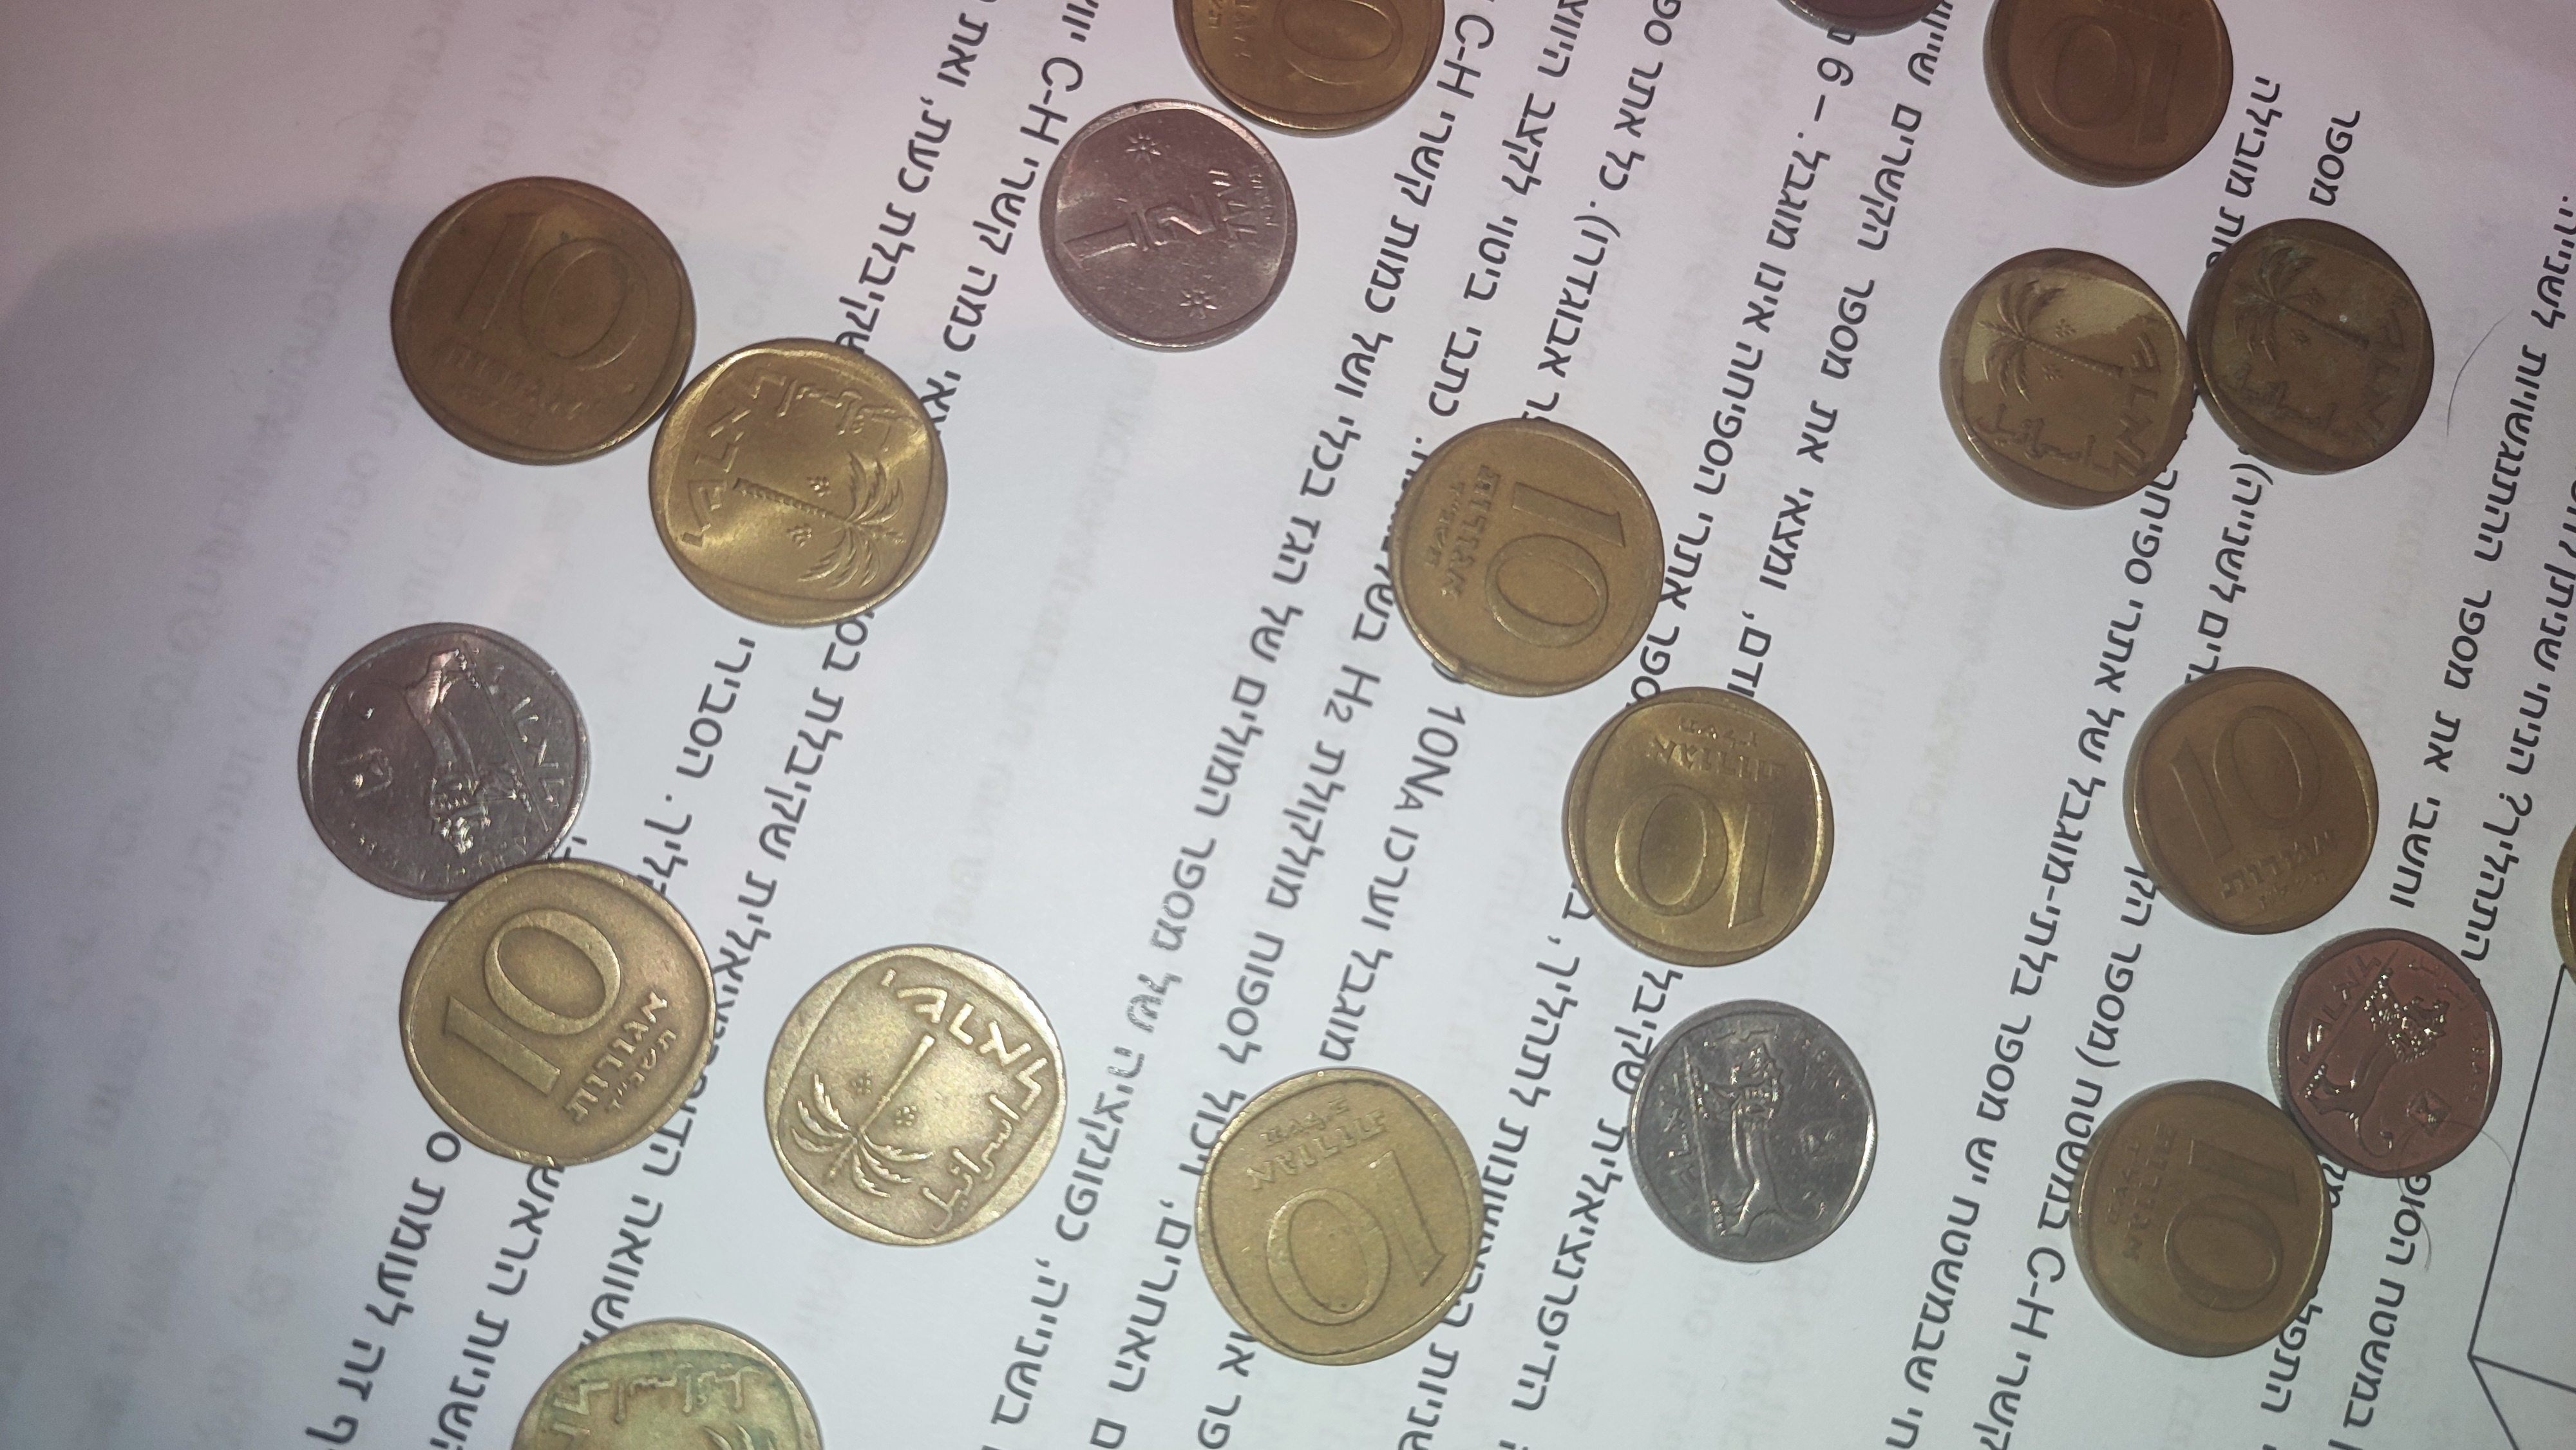1/2 old sheqel: (294, 621, 591, 905), (1624, 997, 1881, 1266), (1035, 95, 1300, 354), (2266, 927, 2505, 1183)
10 old agora brown: (395, 858, 718, 1171), (757, 939, 1074, 1248), (644, 332, 952, 633), (1189, 1065, 1490, 1372), (386, 173, 699, 469), (1385, 414, 1668, 704), (1559, 684, 1838, 971), (2065, 1073, 2339, 1363), (2121, 663, 2388, 939), (1936, 239, 2196, 515), (2181, 216, 2440, 479), (1976, 0, 2238, 191), (1168, 0, 1449, 140)
